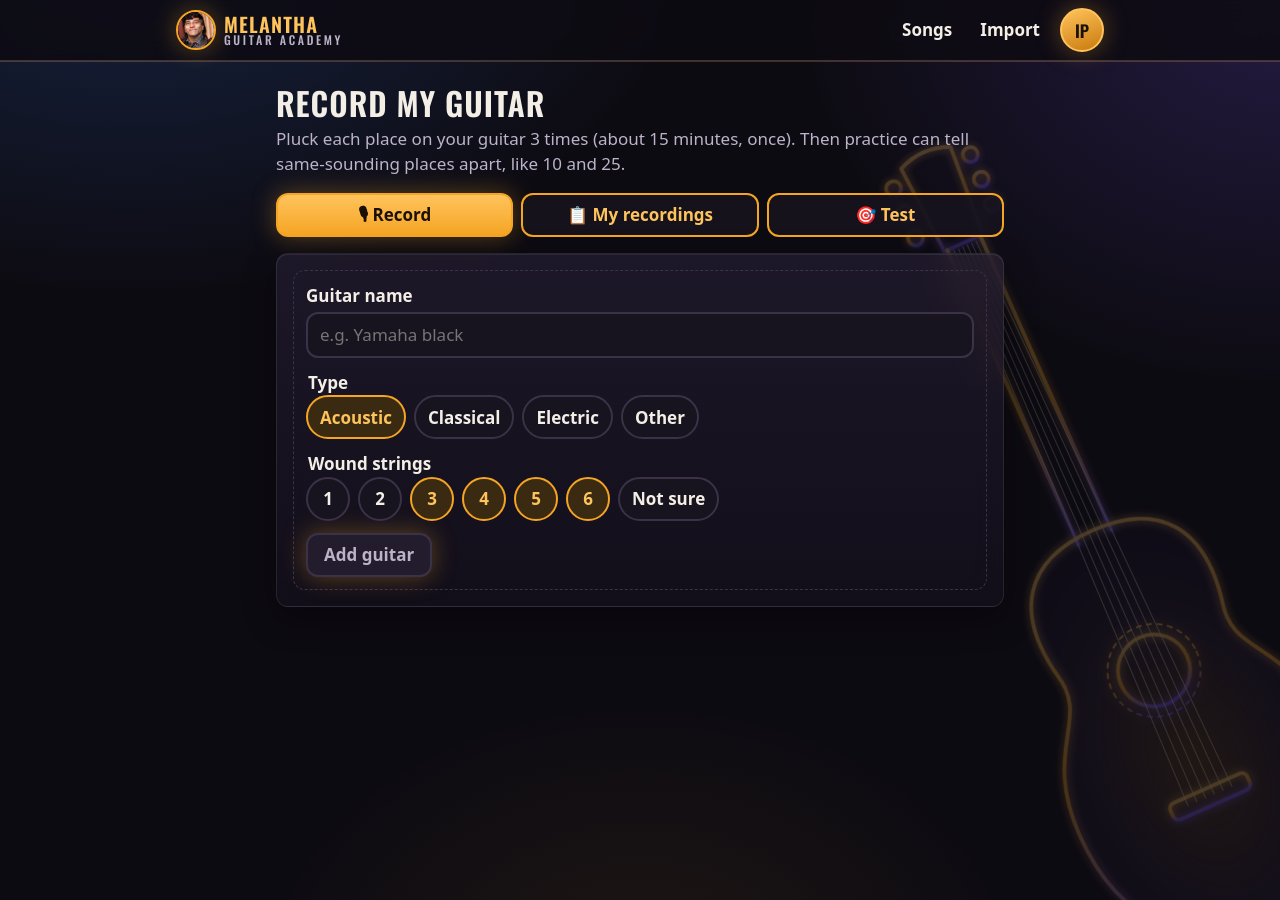
Test: test my guitar (record my guitar page) › another player's guitar: tested, but only its owner can change its recordings
This screenshot has width=1280, height=900.
What coordinates should you click on to do the following:
click the button "🎯 Test"
I would click on:
 (885, 215)
Its box is x1=767 y1=193 x2=1004 y2=237.
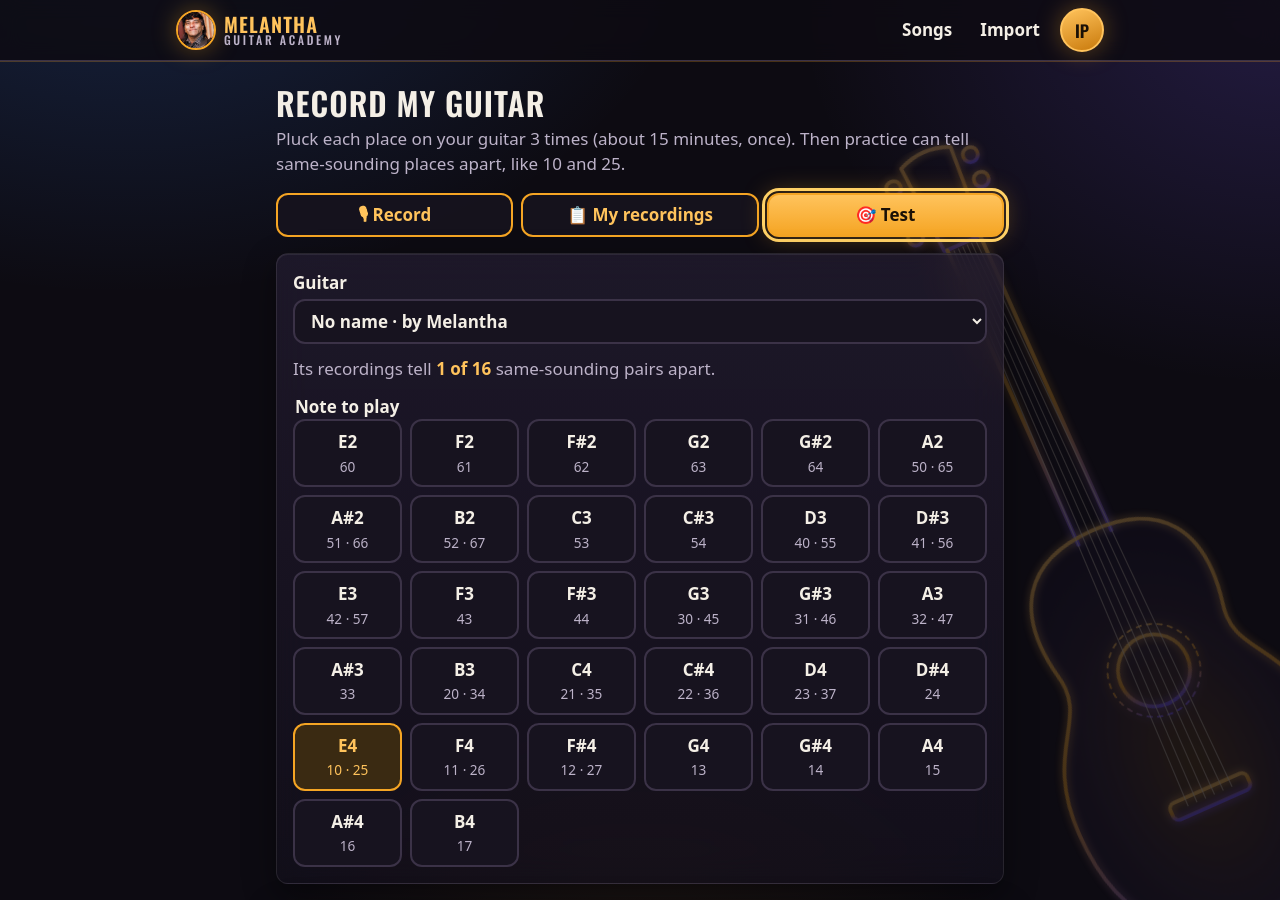
What coordinates should you click on to do the following:
click the button "E4 10 · 25"
I would click on:
 (348, 757)
Its box is x1=293 y1=723 x2=402 y2=791.
(page scrolled)
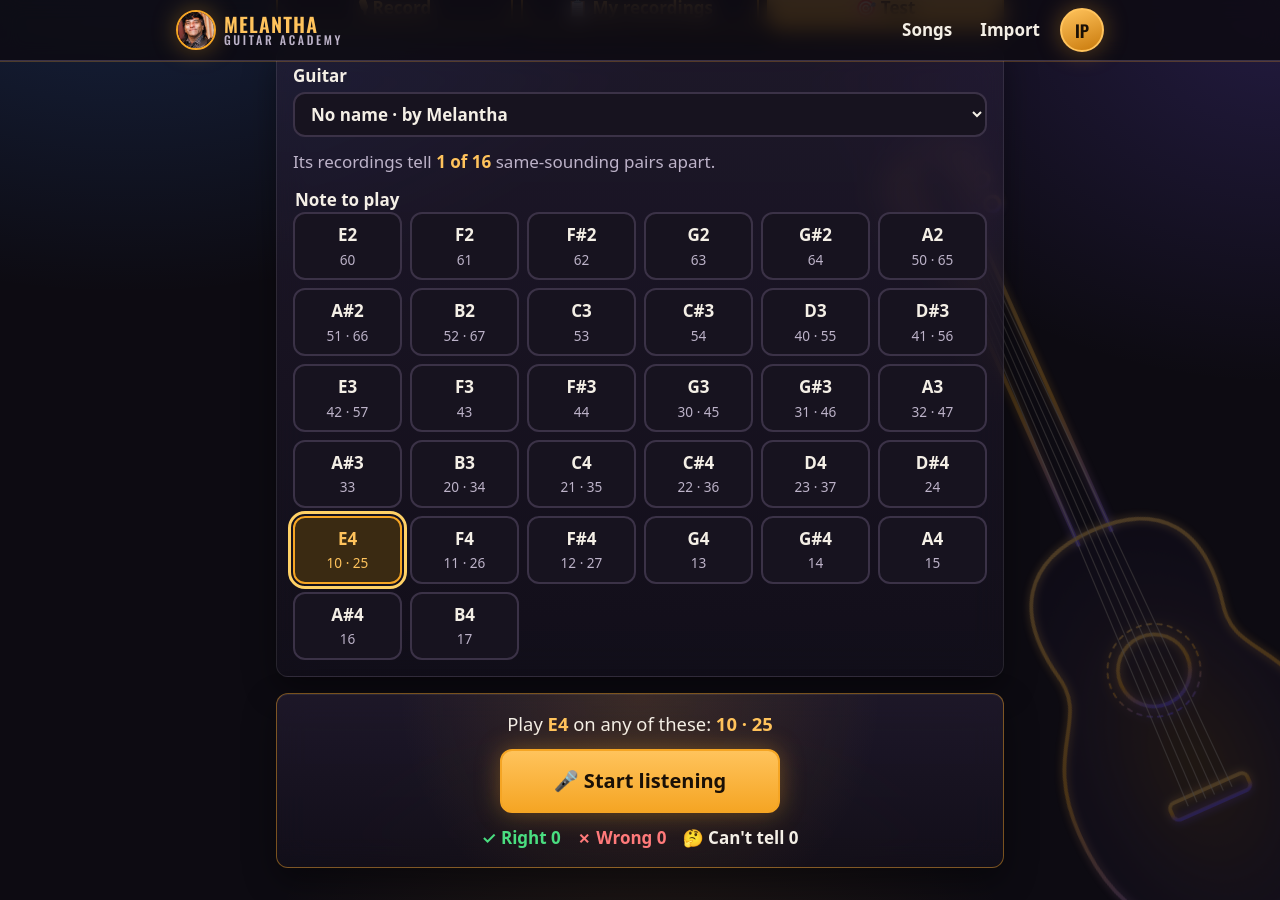
Now the element with test id "test-pairs" is shown, box x1=293 y1=150 x2=715 y2=173
What coordinates should you click on to do the following:
click the button "🎤 Start listening"
I would click on:
 (640, 781)
Its box is x1=500 y1=749 x2=780 y2=813.
(page scrolled)
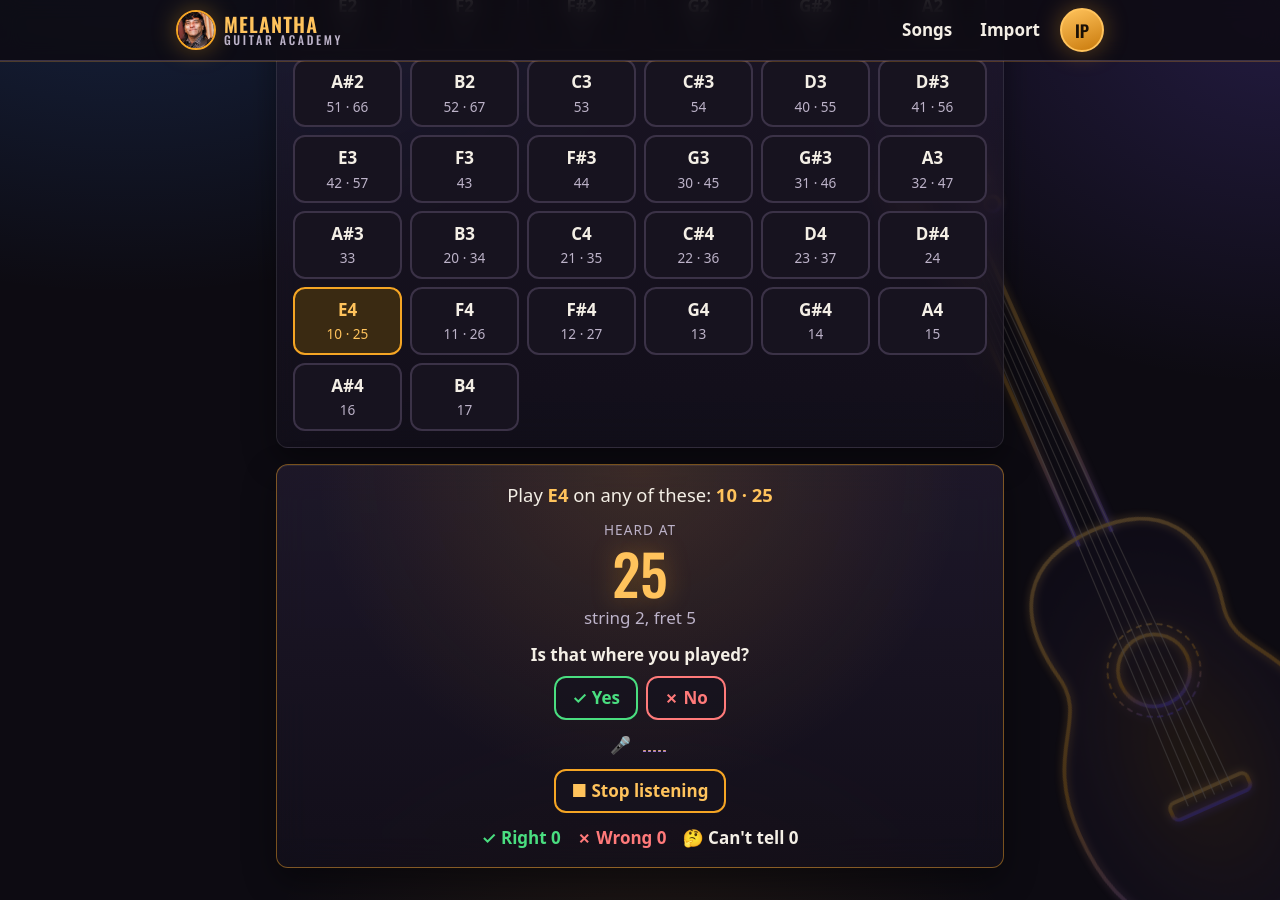
What coordinates should you click on to do the following:
click the button "✗ No"
I would click on:
 (686, 698)
Its box is x1=646 y1=676 x2=726 y2=720.
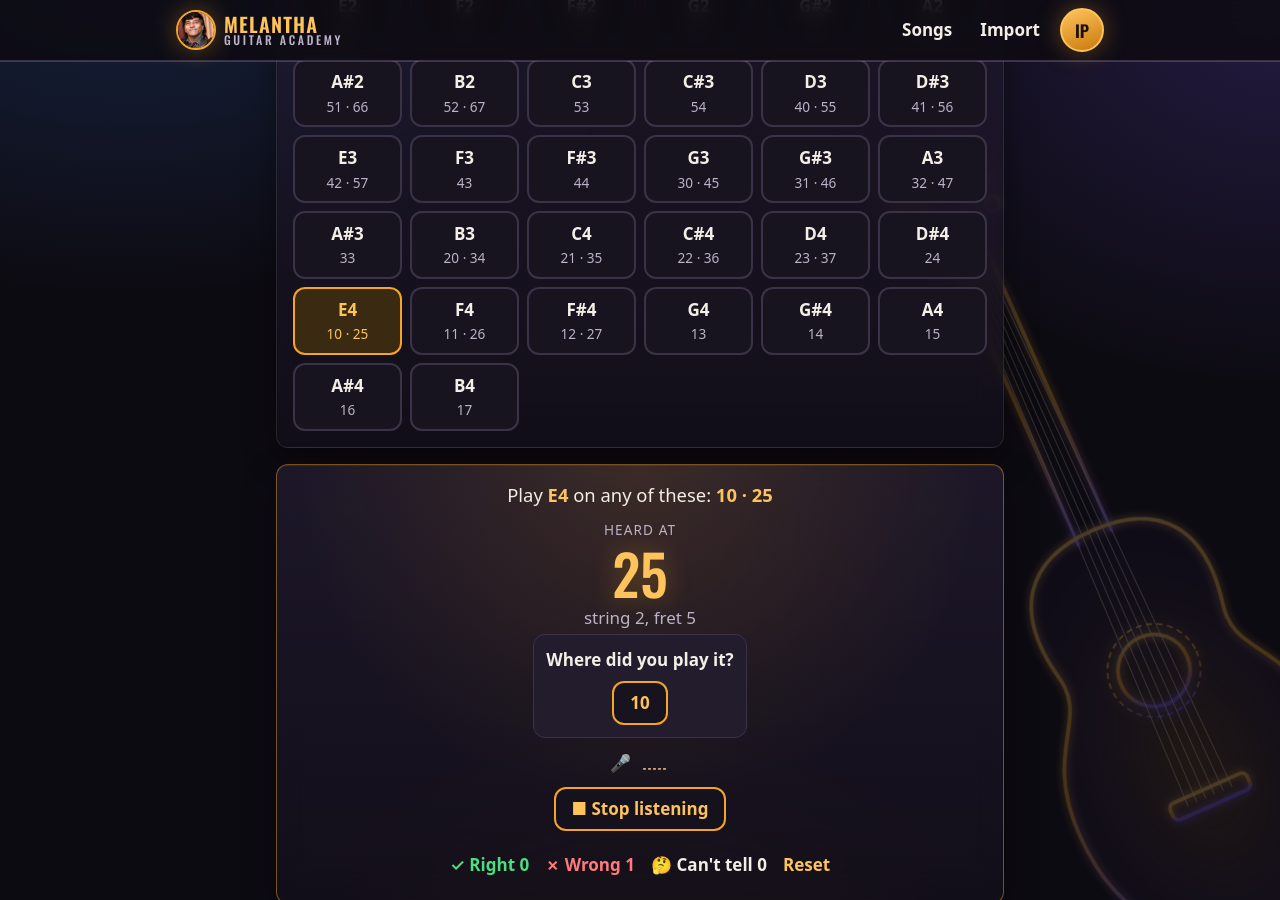
What coordinates should you click on to do the following:
click the button "10"
I would click on:
 (640, 703)
Its box is x1=612 y1=681 x2=668 y2=725.
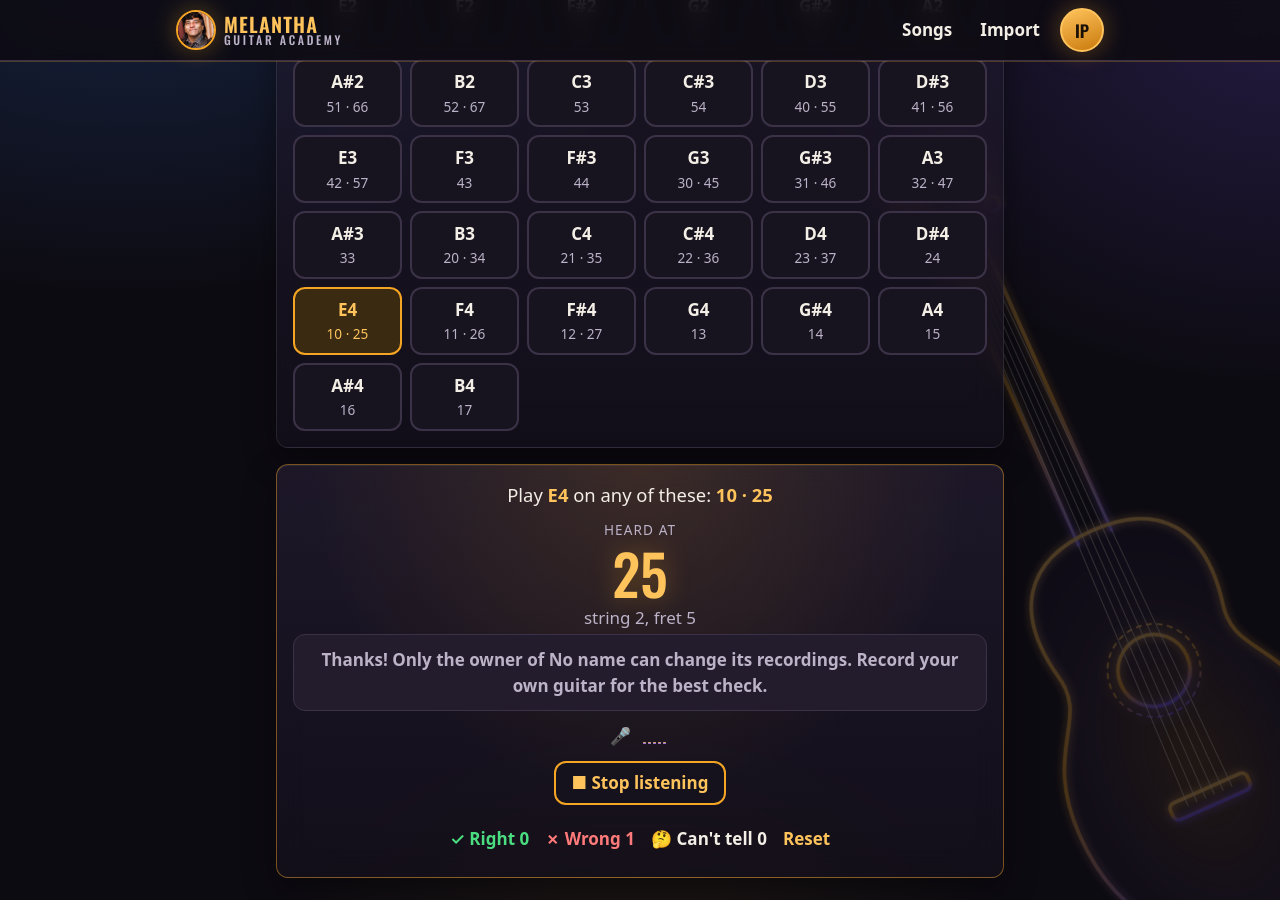
Now the element with test id "test-fix" shows "Only the owner of No name can change its recordings.", box x1=293 y1=634 x2=987 y2=711
